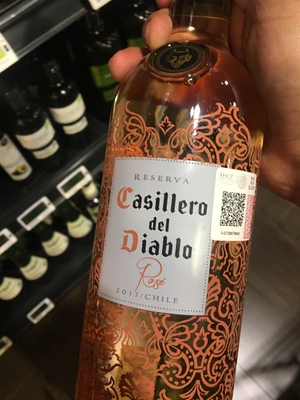casillero del diablo rose: (84, 3, 269, 400)
